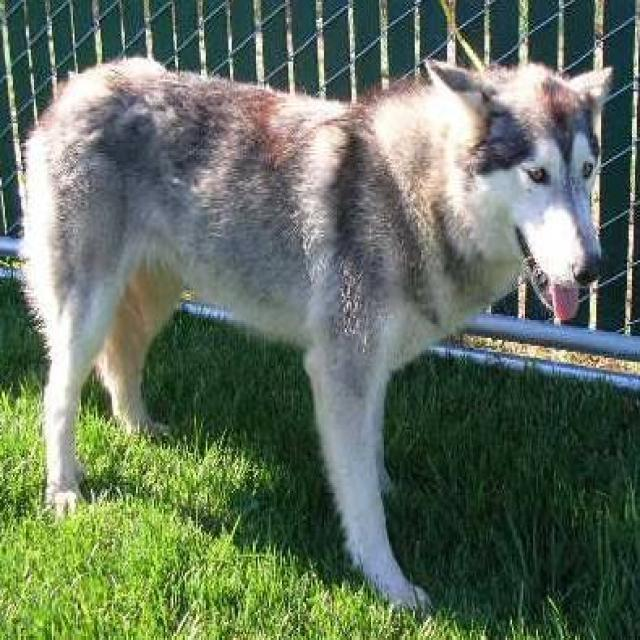adult_dog: (10, 51, 615, 620)
